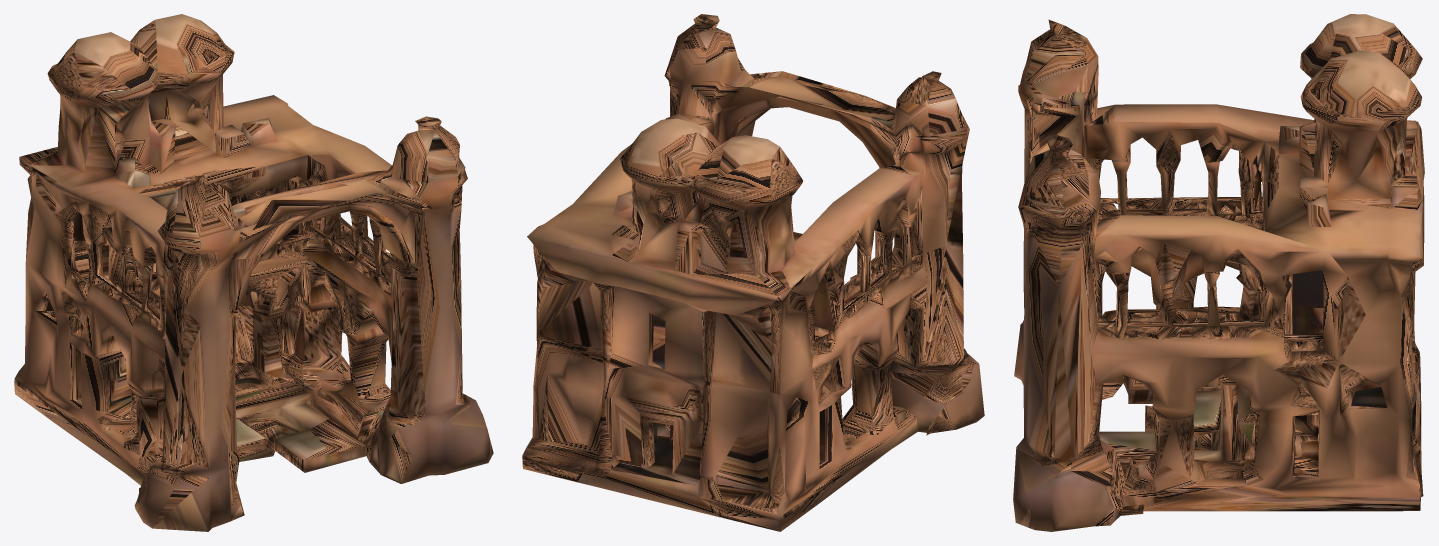
Rendered from A_sprawling_sandstone.glb.
3 renders of one model, left to right at view 1: azimuth 30°, elevation 25°; view 2: azimuth 150°, elevation 25°; view 3: azimuth 270°, elevation 25°, orthographic. The views are drawn at different scales.
Parts seen in each view (by area): view 1: A_sprawling_sandstone; view 2: A_sprawling_sandstone; view 3: A_sprawling_sandstone.
Boxes of the visible parts, box(x1,y1,x2,y2) form: A_sprawling_sandstone: box(14, 14, 493, 531); A_sprawling_sandstone: box(522, 14, 984, 531); A_sprawling_sandstone: box(1013, 14, 1424, 531).
Size of the model in its own units: 1.86 by 1.9 by 1.83.
Materials: 1 (1 with a texture image).
